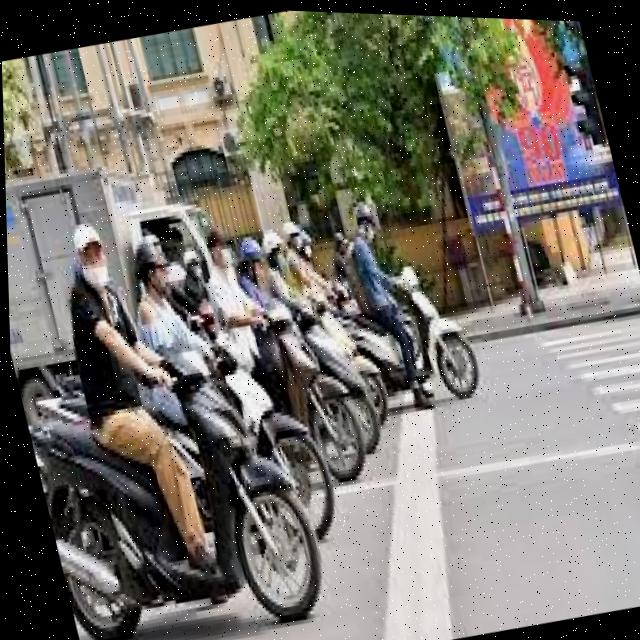motorcycle: (24, 321, 341, 640), (334, 249, 494, 427)
